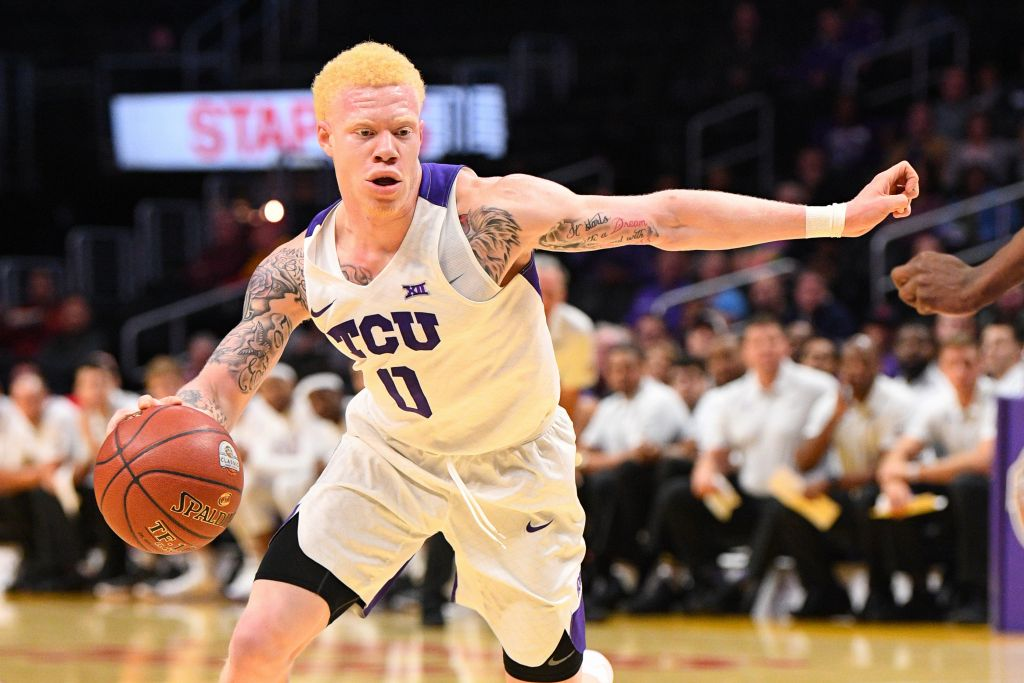ball: (85, 386, 256, 569)
breakthrough: (71, 22, 882, 683)
